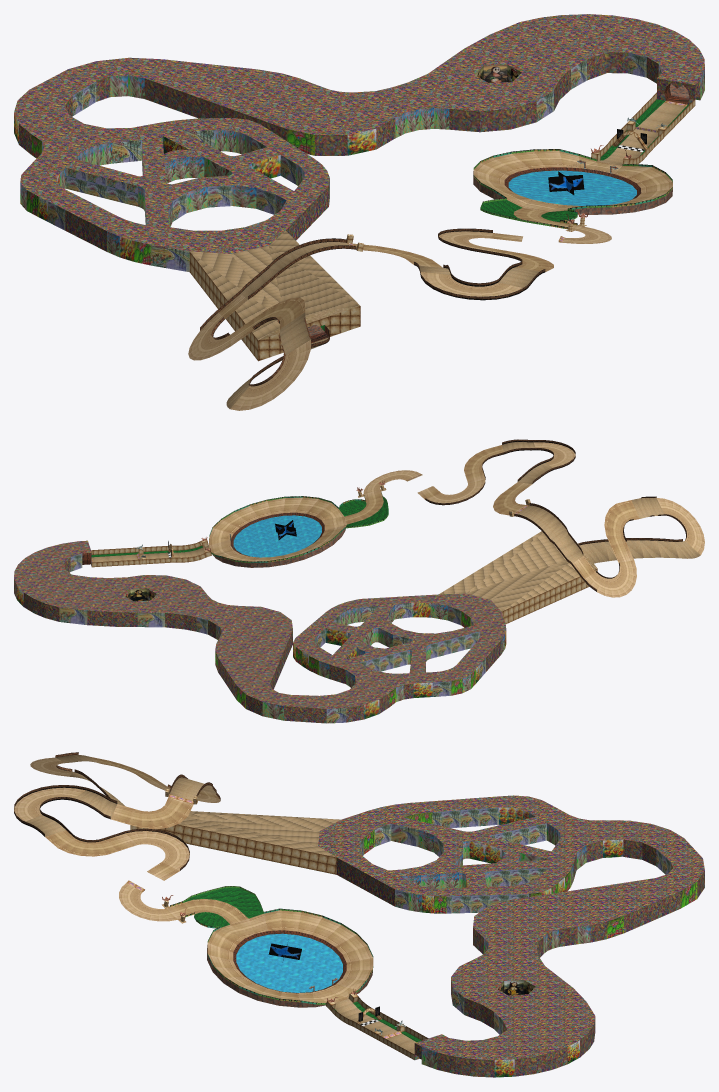
The picture shows the model from 3 angles, top to bottom: view 1: azimuth 30°, elevation 25°; view 2: azimuth 150°, elevation 25°; view 3: azimuth 270°, elevation 25°; orthographic projection. The views are drawn at different scales.
Visible parts, largest first — view 1: course-SKP--15.001, course-SKP--roadwood.001, course-SKP--roaddirt.001, course-SKP--13.001, course-SKP--12.001, course-SKP--1.002, course-SKP--barda.001, course-SKP--zAgua.001, course-SKP--14.001, course-SKP--16.001, course-SKP--road.010, course-SKP--roadgrass.001 (+3 smaller); view 2: course-SKP--15.001, course-SKP--roadwood.001, course-SKP--roaddirt.001, course-SKP--13.001, course-SKP--1.002, course-SKP--zAgua.001, course-SKP--12.001, course-SKP--barda.001, course-SKP--14.001, course-SKP--roadgrass.001, course-SKP--16.001, course-SKP--F.001 (+2 smaller); view 3: course-SKP--15.001, course-SKP--roadwood.001, course-SKP--roaddirt.001, course-SKP--13.001, course-SKP--zAgua.001, course-SKP--1.002, course-SKP--12.001, course-SKP--14.001, course-SKP--roadgrass.001, course-SKP--barda.001, course-SKP--16.001, course-SKP--F.001 (+2 smaller).
Boxes of the visible parts, left/top/right/bottom form: course-SKP--15.001: left=14, top=14, right=704, bottom=253; course-SKP--roadwood.001: left=188, top=151, right=672, bottom=410; course-SKP--roaddirt.001: left=190, top=102, right=685, bottom=408; course-SKP--13.001: left=48, top=52, right=661, bottom=272; course-SKP--12.001: left=20, top=70, right=704, bottom=257; course-SKP--1.002: left=189, top=92, right=695, bottom=361; course-SKP--barda.001: left=200, top=228, right=545, bottom=386; course-SKP--zAgua.001: left=508, top=170, right=636, bottom=205; course-SKP--14.001: left=14, top=113, right=376, bottom=261; course-SKP--16.001: left=26, top=129, right=314, bottom=265; course-SKP--road.010: left=307, top=83, right=689, bottom=336; course-SKP--roadgrass.001: left=320, top=99, right=688, bottom=330; course-SKP--15.001: left=14, top=540, right=541, bottom=723; course-SKP--roadwood.001: left=209, top=442, right=704, bottom=597; course-SKP--roaddirt.001: left=92, top=442, right=700, bottom=611; course-SKP--13.001: left=59, top=553, right=485, bottom=723; course-SKP--1.002: left=91, top=485, right=597, bottom=623; course-SKP--zAgua.001: left=233, top=515, right=321, bottom=557; course-SKP--12.001: left=216, top=603, right=504, bottom=720; course-SKP--barda.001: left=425, top=439, right=686, bottom=591; course-SKP--14.001: left=17, top=586, right=506, bottom=719; course-SKP--roadgrass.001: left=91, top=497, right=388, bottom=557; course-SKP--16.001: left=215, top=611, right=475, bottom=708; course-SKP--F.001: left=209, top=491, right=388, bottom=562; course-SKP--15.001: left=318, top=795, right=704, bottom=1077; course-SKP--roadwood.001: left=14, top=757, right=373, bottom=1002; course-SKP--roaddirt.001: left=25, top=754, right=416, bottom=1054; course-SKP--13.001: left=359, top=807, right=670, bottom=1034; course-SKP--zAgua.001: left=236, top=933, right=342, bottom=992; course-SKP--1.002: left=130, top=789, right=428, bottom=1059; course-SKP--12.001: left=401, top=813, right=590, bottom=1069; course-SKP--14.001: left=421, top=807, right=623, bottom=1077; course-SKP--roadgrass.001: left=183, top=887, right=421, bottom=1042; course-SKP--barda.001: left=14, top=752, right=220, bottom=870; course-SKP--16.001: left=363, top=812, right=697, bottom=938; course-SKP--F.001: left=170, top=886, right=373, bottom=1004.
Bounding box in the file's own units: 107721 × 14723 × 108281.
21 materials, 21 textured.
